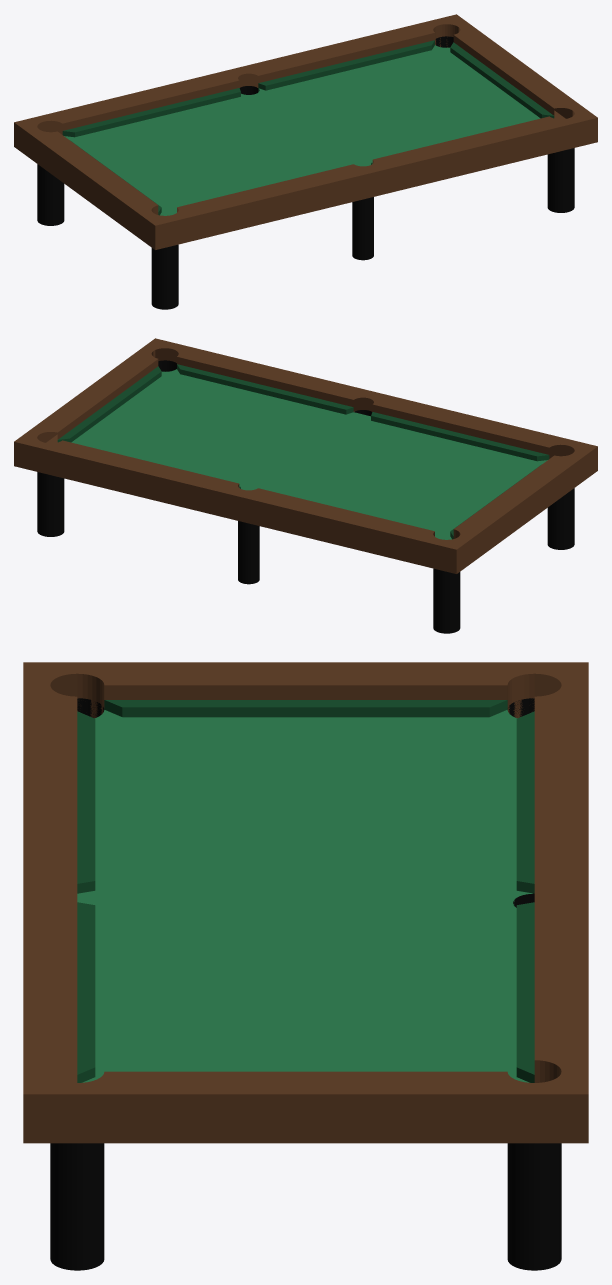
Rendered from ElitePoolTable.fbx.
3 renders of one model, top to bottom at view 1: azimuth 30°, elevation 25°; view 2: azimuth 150°, elevation 25°; view 3: azimuth 270°, elevation 25°, orthographic. The views are drawn at different scales.
Visible parts, largest first — view 1: Surface, WoodenFrame, Pockets, Cushions; view 2: Surface, WoodenFrame, Pockets, Cushions; view 3: Surface, WoodenFrame, Cushions, Pockets.
Part boxes in pixels (left/top/right/bottom): Surface: left=64, top=45, right=540, bottom=215; WoodenFrame: left=14, top=14, right=597, bottom=249; Pockets: left=37, top=36, right=574, bottom=309; Cushions: left=62, top=40, right=554, bottom=215; Surface: left=71, top=369, right=547, bottom=539; WoodenFrame: left=14, top=338, right=597, bottom=573; Pockets: left=37, top=360, right=574, bottom=633; Cushions: left=57, top=364, right=549, bottom=539; Surface: left=77, top=710, right=532, bottom=1082; WoodenFrame: left=23, top=662, right=588, bottom=1143; Cushions: left=77, top=700, right=534, bottom=1082; Pockets: left=50, top=698, right=561, bottom=1270.
Size of the model in its own units: 2.84 by 0.575 by 1.57.
